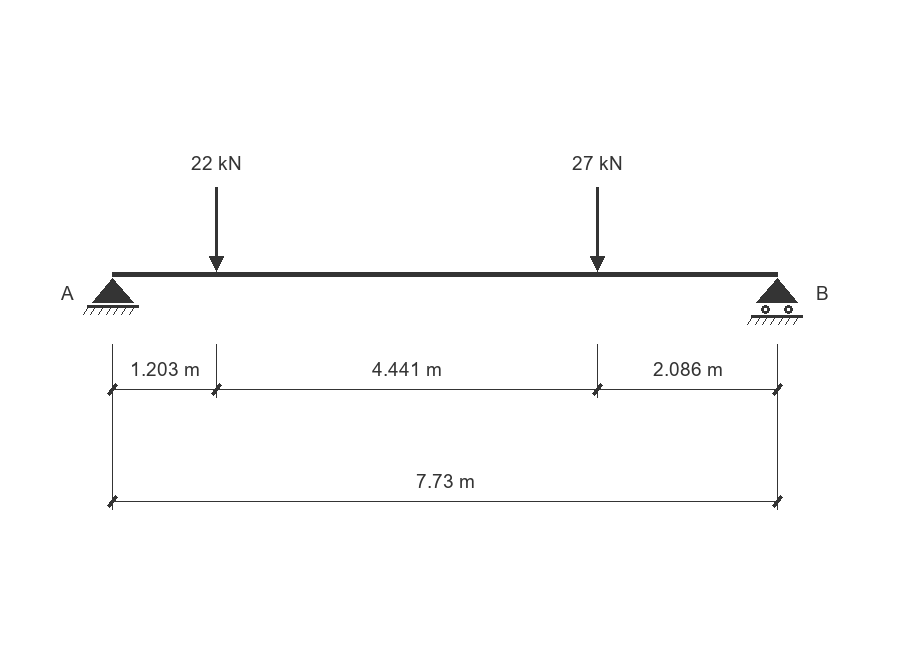pin_support: (83, 278, 139, 315)
point_load: (209, 187, 224, 272), (590, 187, 605, 272)
roller_support: (747, 278, 803, 325)
